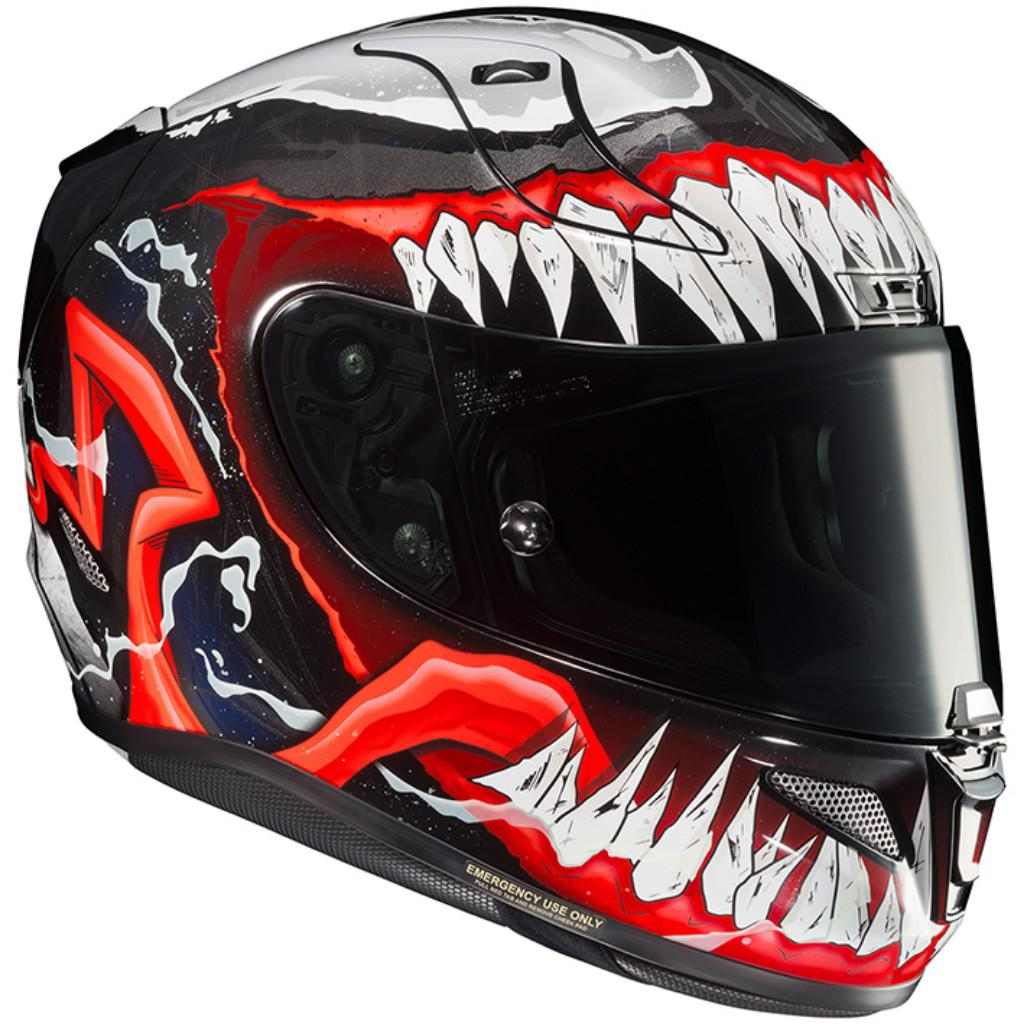Helmet: (12, 3, 1014, 1022)
